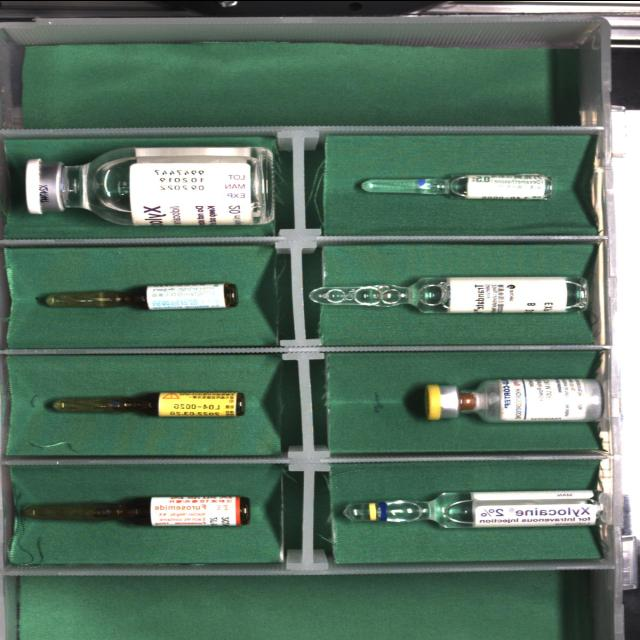Vials: (26, 146, 274, 225), (404, 377, 603, 421)
